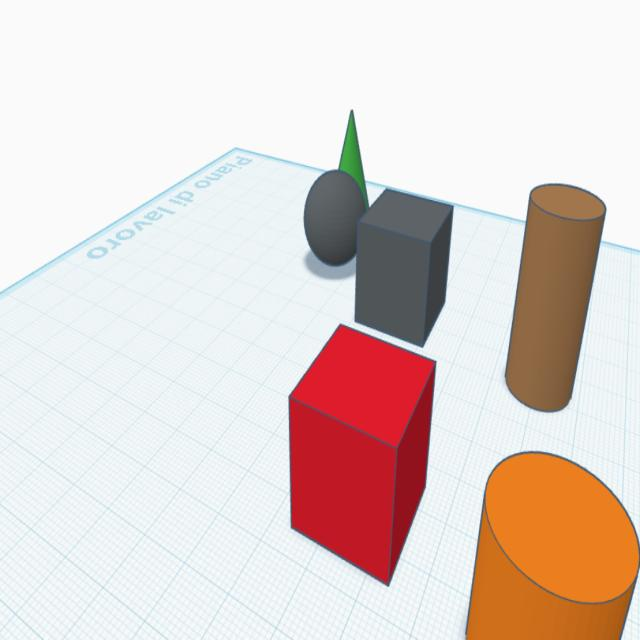cube: (284, 319, 440, 590), (353, 174, 456, 353)
sphere: (300, 167, 371, 273)
